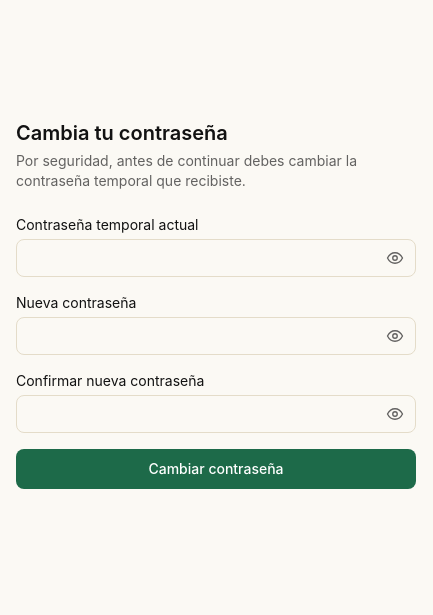
Test: CambiarPasswordView › marks mismatched confirmation as invalid and announces the error
Type "temporal" into the password field labelled "Contraseña temporal actual" at (216, 258), box [16, 239, 416, 277]
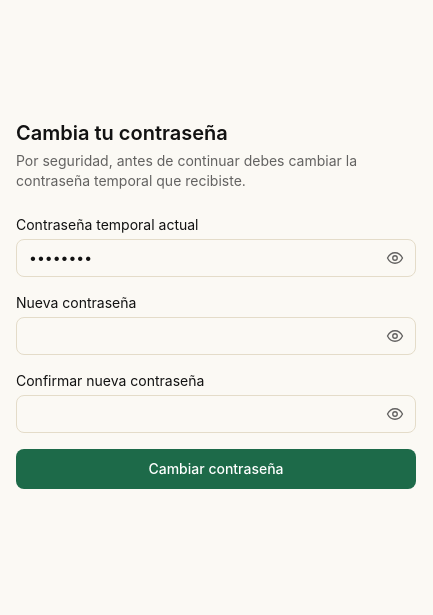
Type "Contraseña-Segura-123" into the password field labelled "Nueva contraseña" at (216, 336), box [16, 317, 416, 355]
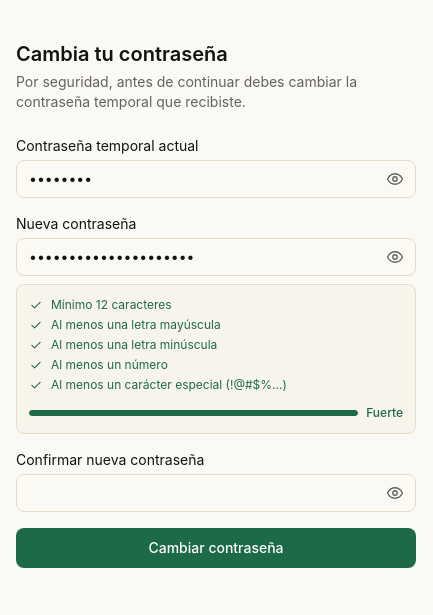
Type "otra-cosa" into the password field labelled "Confirmar nueva contraseña" at (216, 493), box [16, 474, 416, 512]
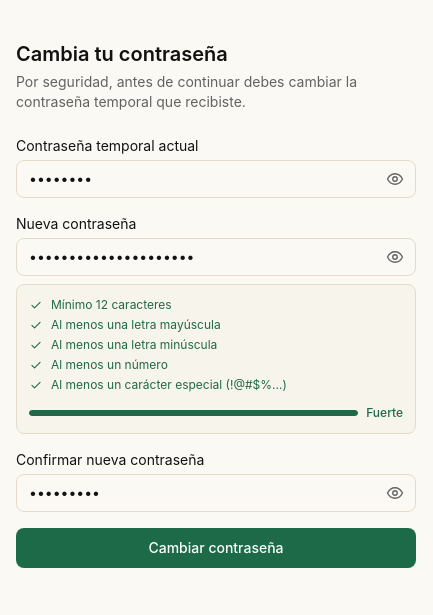
Submit the form
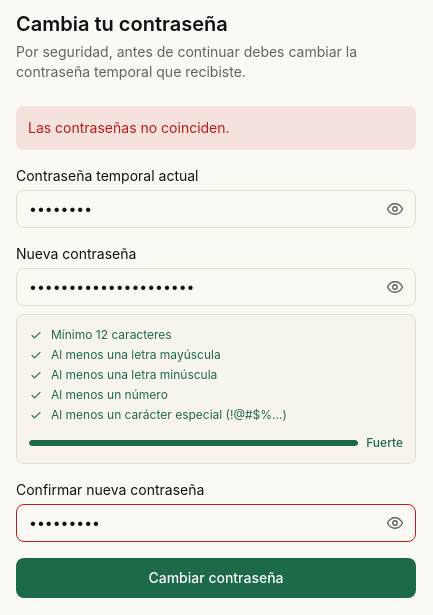
Check: the message "Las contraseñas no coinciden." is shown, box [16, 106, 416, 150]
